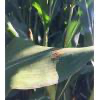Corn rust leaf: (5, 35, 94, 90)
